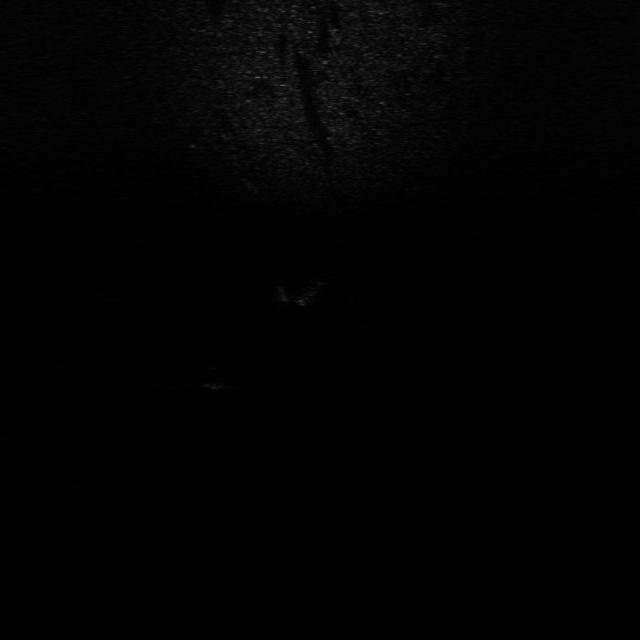ball: (197, 362, 233, 392)
human body: (270, 276, 334, 310)
